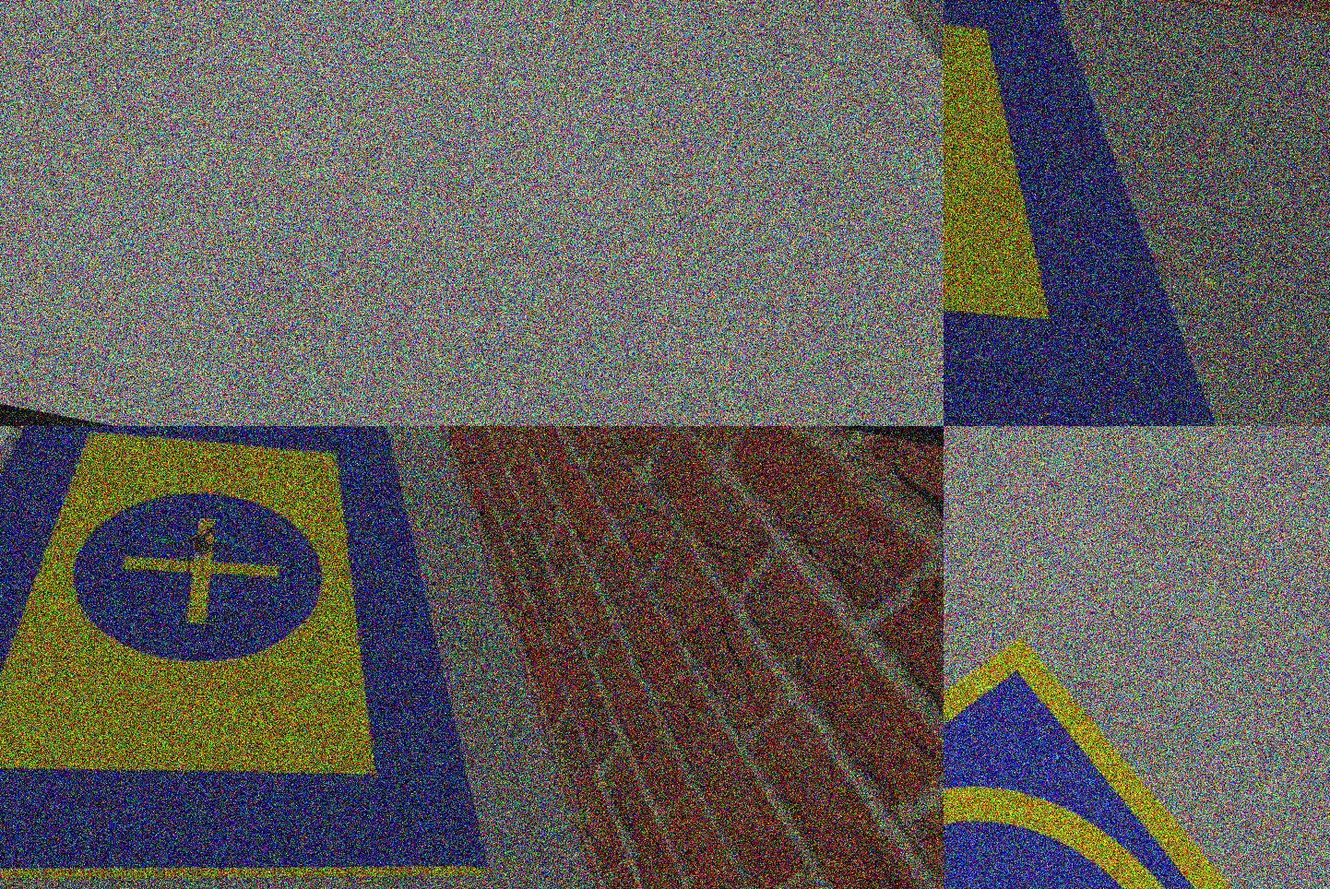large_base: (1, 426, 567, 889), (944, 1, 1310, 426)
small_base: (944, 579, 1330, 889)
